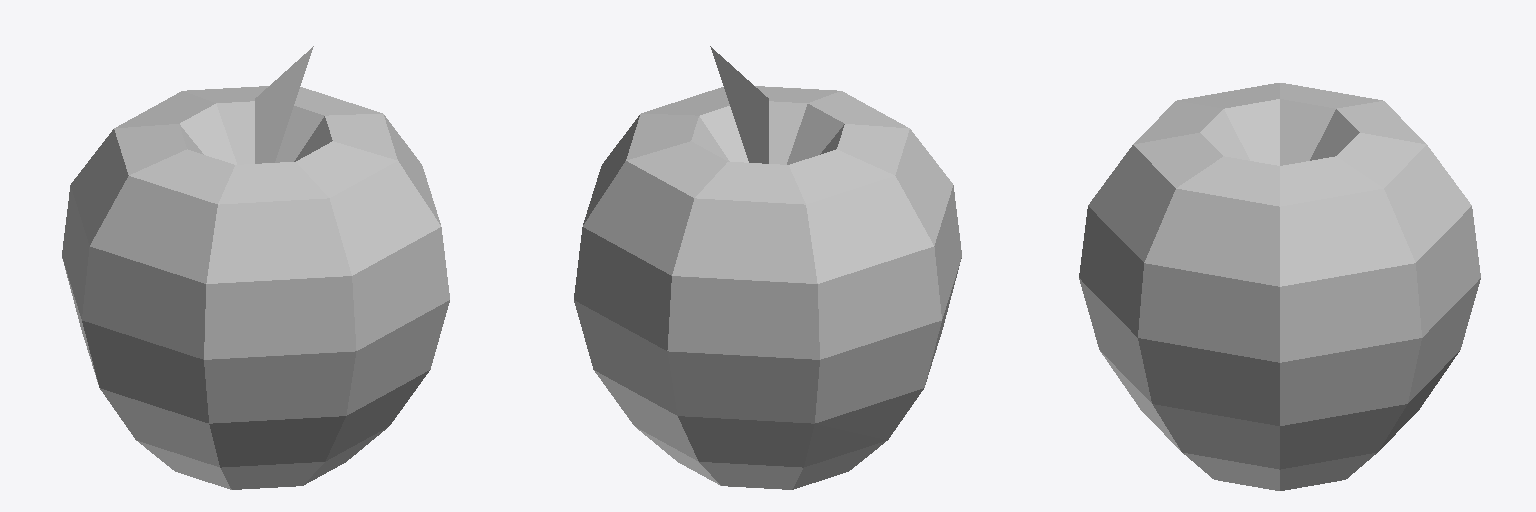
File: apple2.obj
3 views of the same model, side by side, from view 1: azimuth 30°, elevation 25°; view 2: azimuth 150°, elevation 25°; view 3: azimuth 270°, elevation 25° (orthographic).
Parts seen in each view (by area): view 1: Sphere; view 2: Sphere; view 3: Sphere.
Boxes of the visible parts, <box> form: Sphere: <box>62,46,449,489</box>; Sphere: <box>574,46,961,489</box>; Sphere: <box>1079,83,1480,490</box>.
Bounding box in the file's own units: 0.0967 × 0.104 × 0.0967.